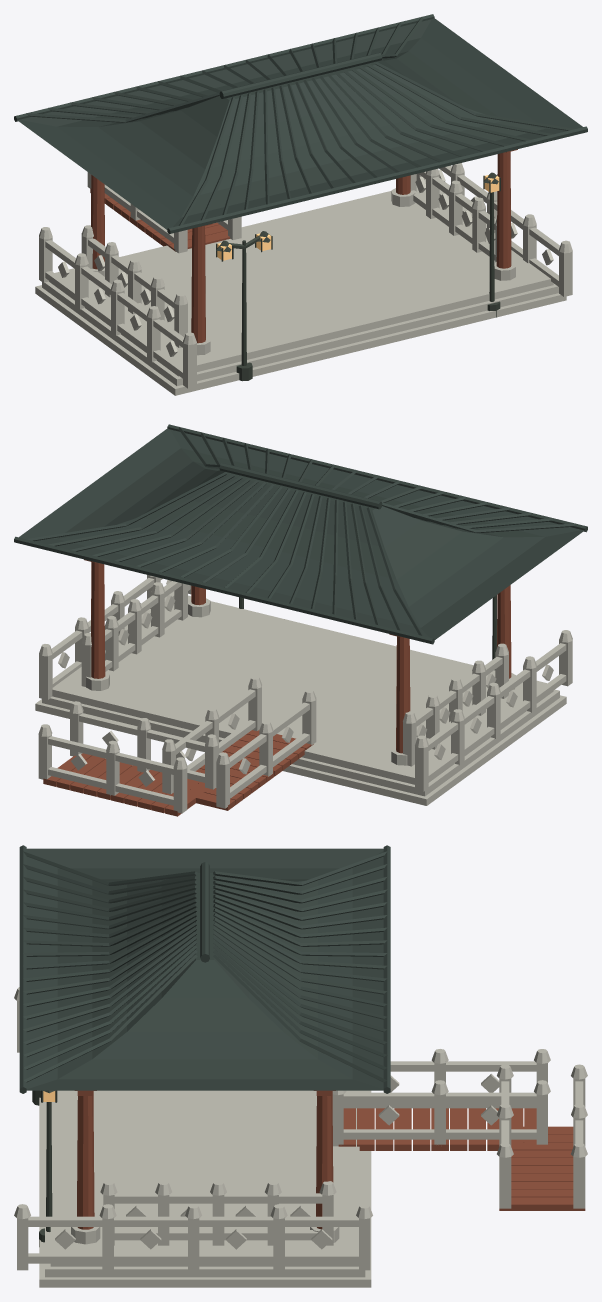
Rendered from hubin.glb.
3 views of the same model, one above another, from view 1: azimuth 30°, elevation 25°; view 2: azimuth 150°, elevation 25°; view 3: azimuth 270°, elevation 25° (orthographic). The views are drawn at different scales.
Visible parts, largest first — view 1: Limestone, Dark_Tile, Lacquered_Wood, Patinated_Iron, Emissive_WarmLamp; view 2: Limestone, Dark_Tile, Lacquered_Wood; view 3: Dark_Tile, Limestone, Lacquered_Wood, Patinated_Iron.
Part boxes in pixels (box(x1,y1,x2,y2)): Limestone: box(35, 163, 572, 395); Dark_Tile: box(14, 14, 587, 234); Lacquered_Wood: box(90, 149, 517, 343); Patinated_Iron: box(216, 172, 500, 381); Emissive_WarmLamp: box(217, 175, 499, 260); Limestone: box(35, 575, 572, 813); Dark_Tile: box(14, 424, 587, 644); Lacquered_Wood: box(43, 559, 511, 816); Dark_Tile: box(19, 845, 390, 1093); Limestone: box(14, 987, 587, 1287); Lacquered_Wood: box(75, 1090, 585, 1229); Patinated_Iron: box(32, 1090, 57, 1246).
Size of the model in its own units: 8.96 by 4.61 by 8.99.
